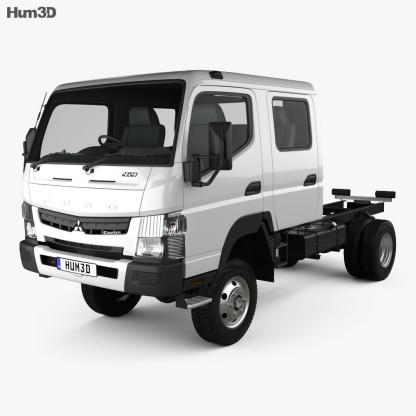truck: (22, 70, 401, 346)
